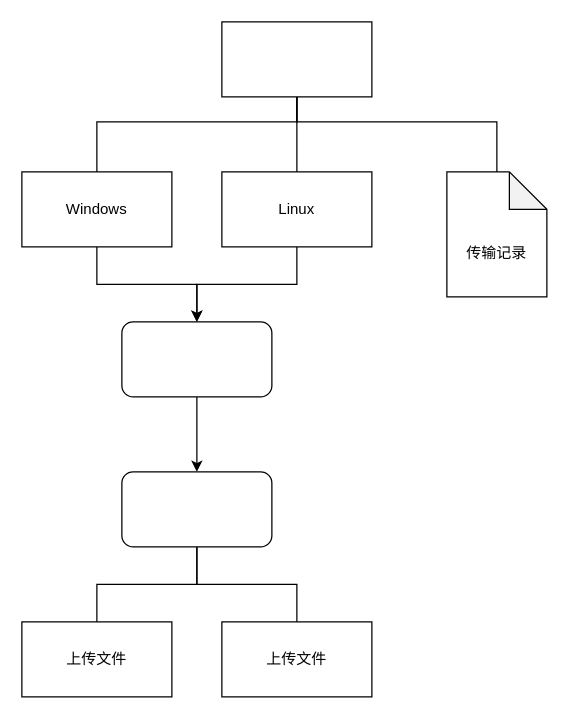
The diagram is 569 pixels wide and 719 high, and some of its shapes have lost their labels. Each missing label, with the centre of its shape:
"登录测试流程" goes at (196,509).
"连通测试流程" goes at (196,359).
"首页 文件传输" goes at (296,59).
